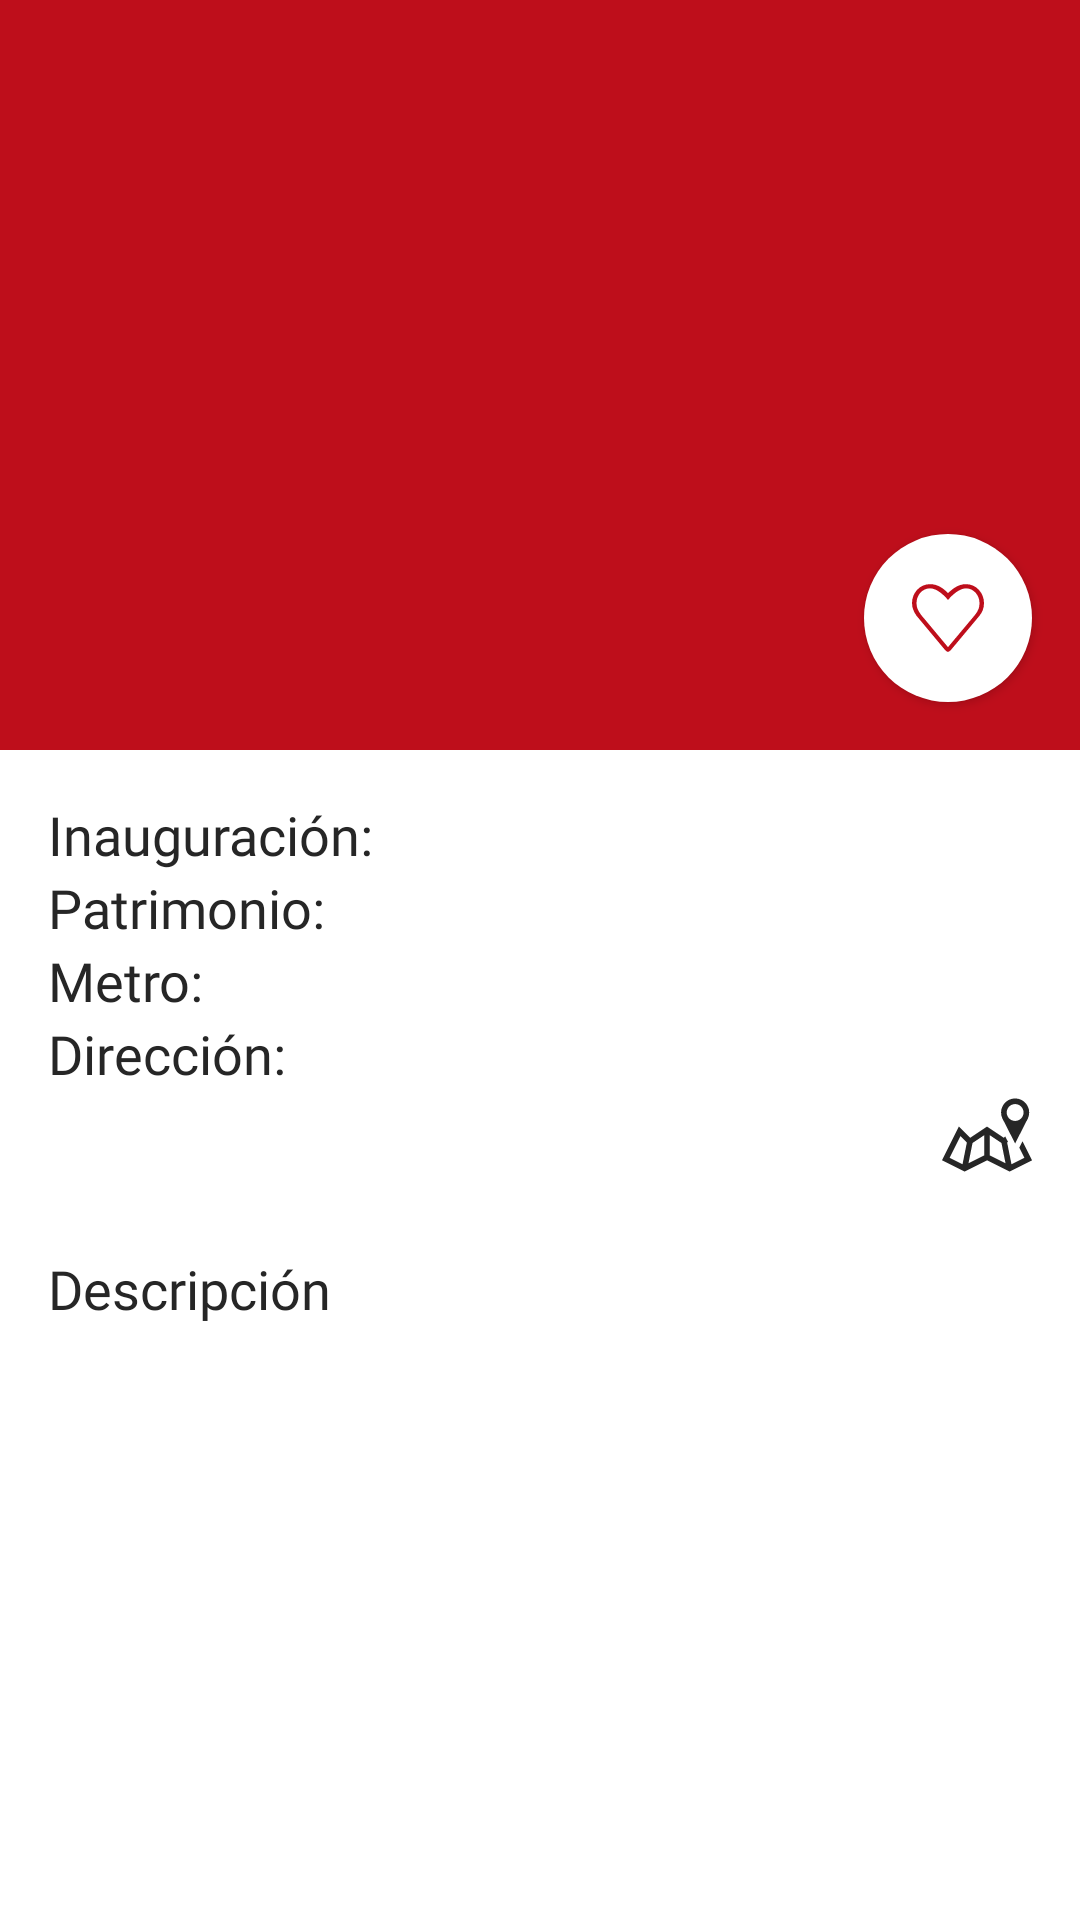

Point at icon controls on the screen. Image size 1080*1920, points as (x,y).
TUS FAVORITOS: (948,618)
